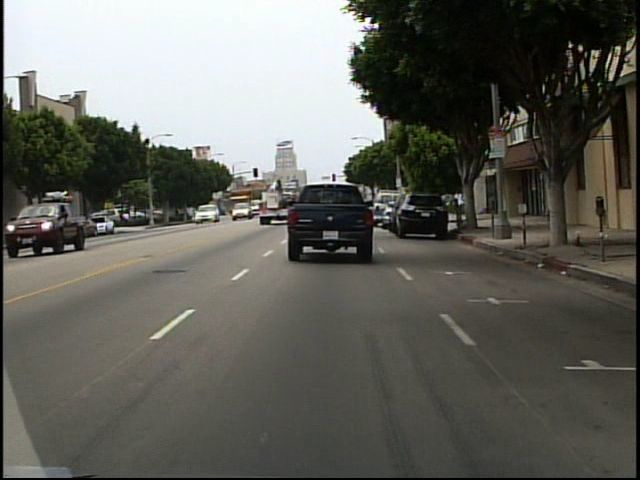person: (453, 187, 464, 221)
